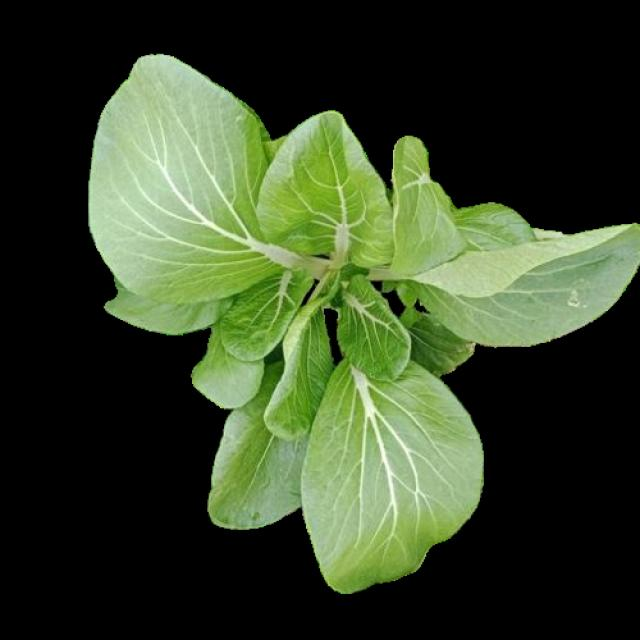mature: (87, 50, 639, 586)
unhealthy: (420, 216, 639, 344)
